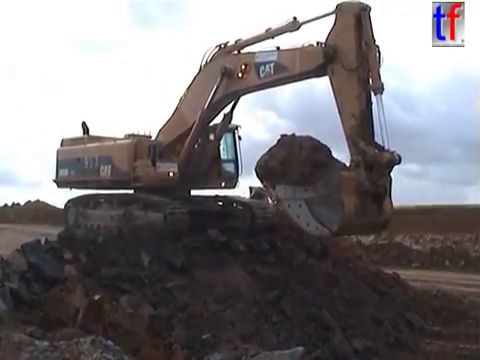excavator: (48, 1, 405, 244)
